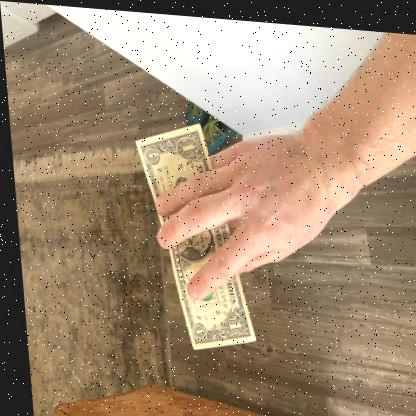one-front: (133, 123, 257, 348)
